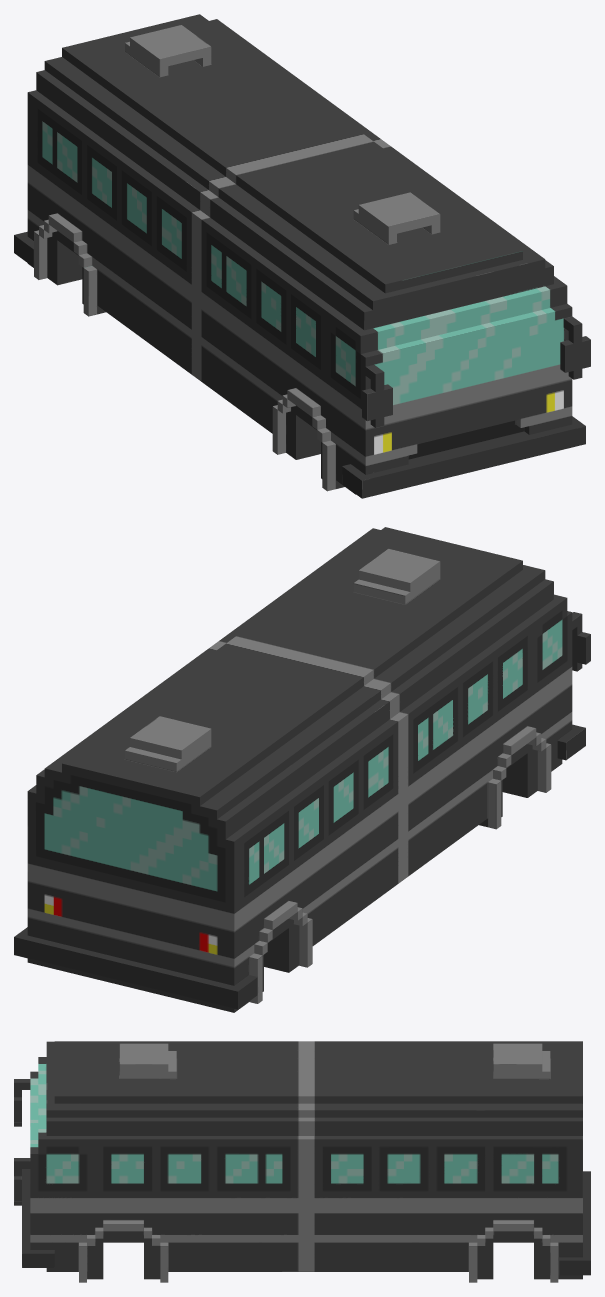
The model's file is Bus_2.obj.
3 renders of one model, top to bottom at view 1: azimuth 30°, elevation 25°; view 2: azimuth 150°, elevation 25°; view 3: azimuth 270°, elevation 25°, orthographic. The views are drawn at different scales.
Visible parts, largest first — view 1: Bus_2_Bus_2.001; view 2: Bus_2_Bus_2.001; view 3: Bus_2_Bus_2.001.
Part boxes in pixels (x1,y1,x2,y2): Bus_2_Bus_2.001: (14, 14, 590, 498); Bus_2_Bus_2.001: (14, 527, 590, 1012); Bus_2_Bus_2.001: (14, 1041, 590, 1282).
Bounding box in the file's own units: 2.6 × 2.5 × 7.1.
